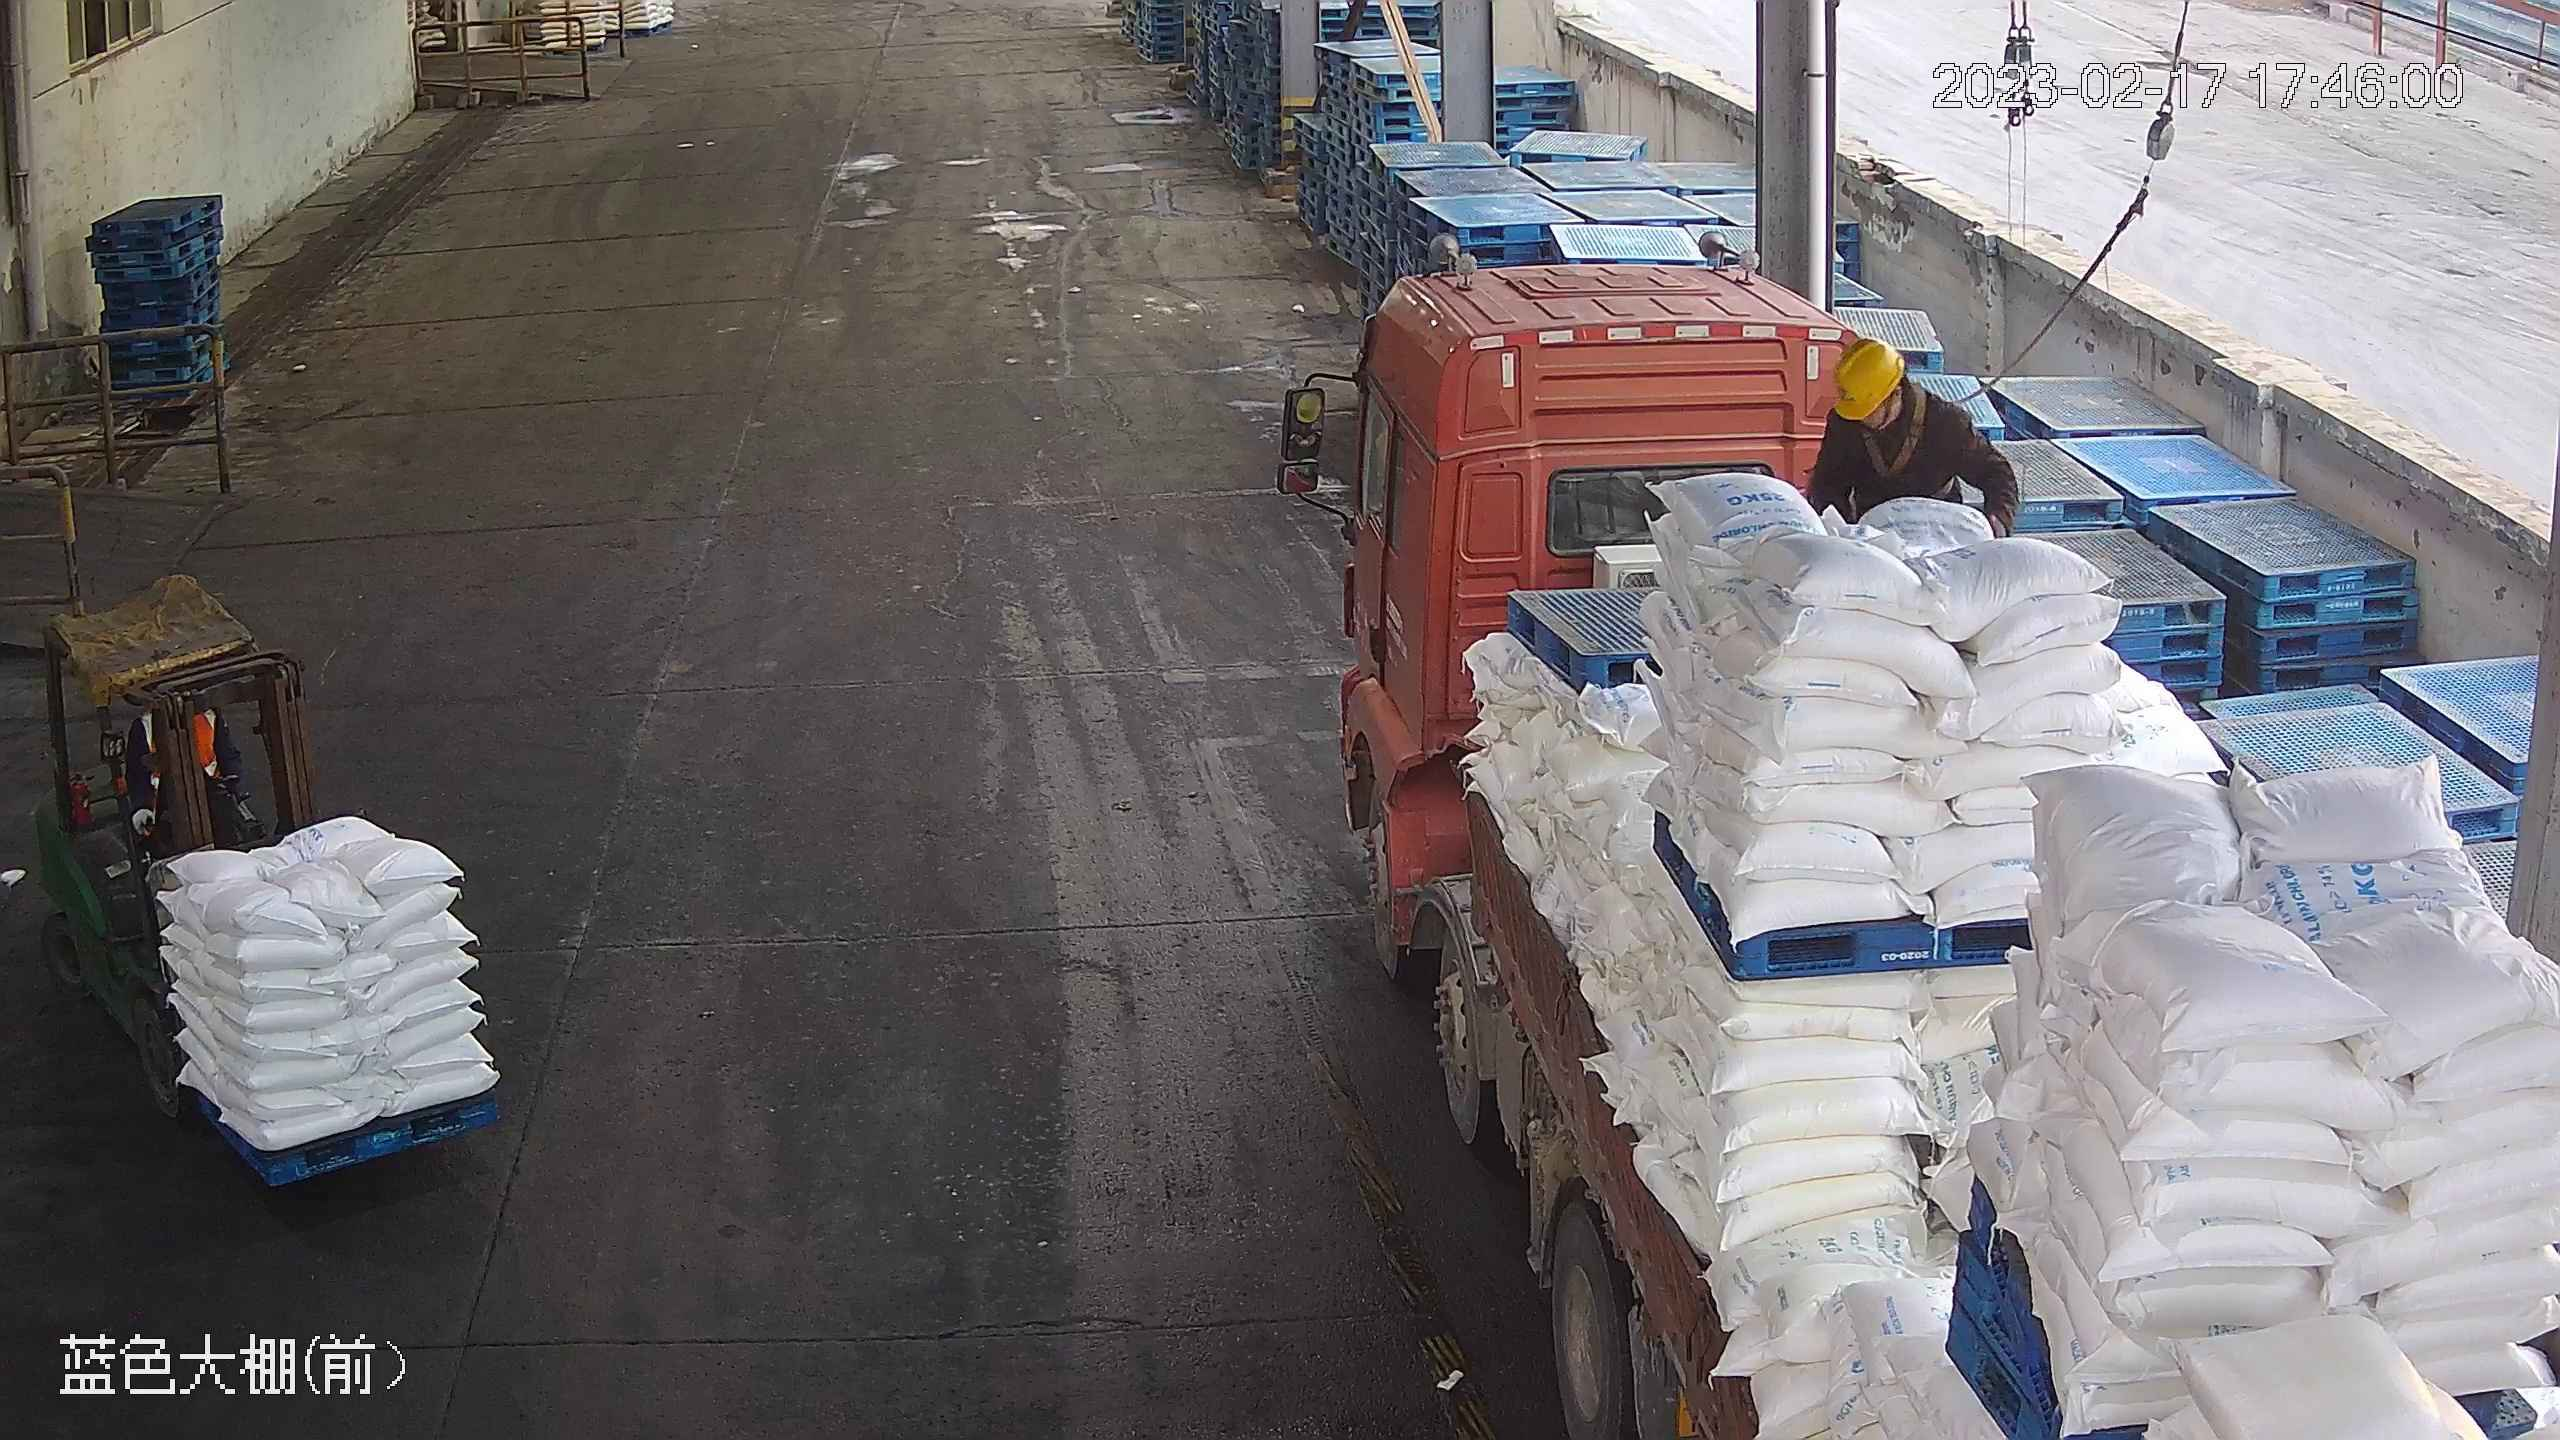belt: (1859, 411, 1928, 475)
head: (1824, 331, 1962, 455)
helmet: (1829, 335, 1903, 420)
truck: (1276, 255, 2560, 1440)
